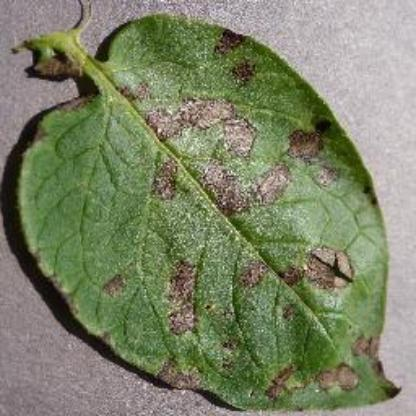Early-Blight: (12, 4, 408, 412)
